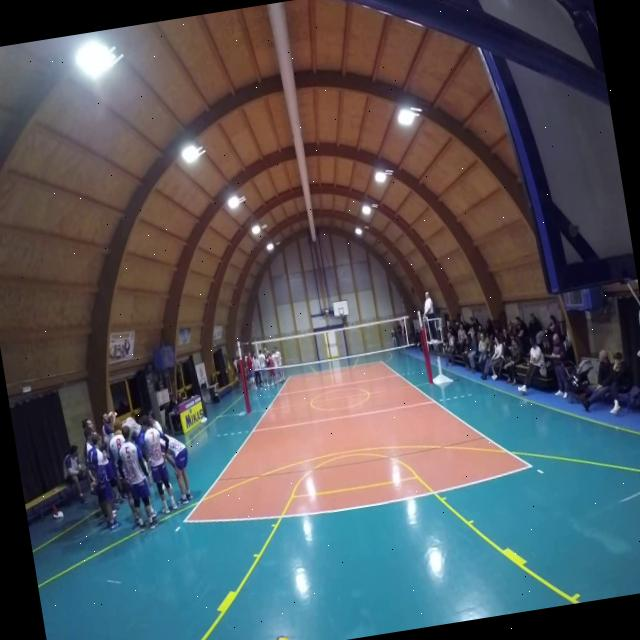Volleyball: (274, 634, 291, 640)
